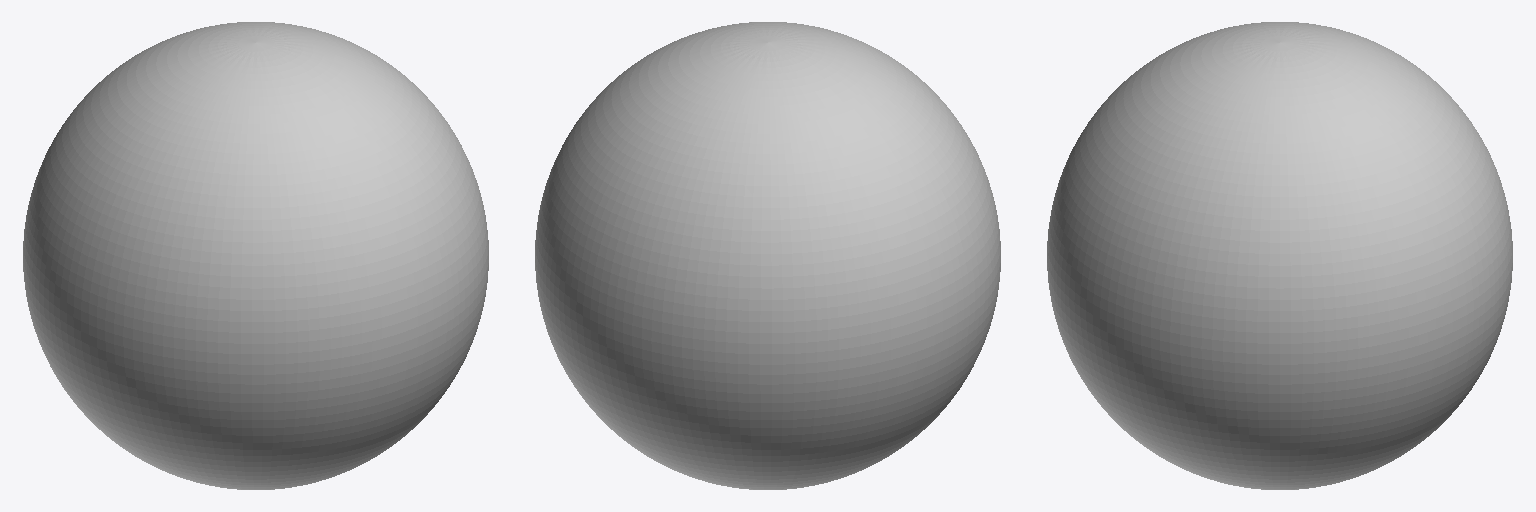
File: MonsterBall.obj
3 renders of one model, left to right at view 1: azimuth 30°, elevation 25°; view 2: azimuth 150°, elevation 25°; view 3: azimuth 270°, elevation 25°, orthographic.
Parts seen in each view (by area): view 1: 球; view 2: 球; view 3: 球.
Boxes of the visible parts, <box> form: 球: <box>23,22,488,489</box>; 球: <box>535,22,1000,489</box>; 球: <box>1047,22,1512,489</box>.
Bounding box in the file's own units: 1.97 × 2 × 1.97.